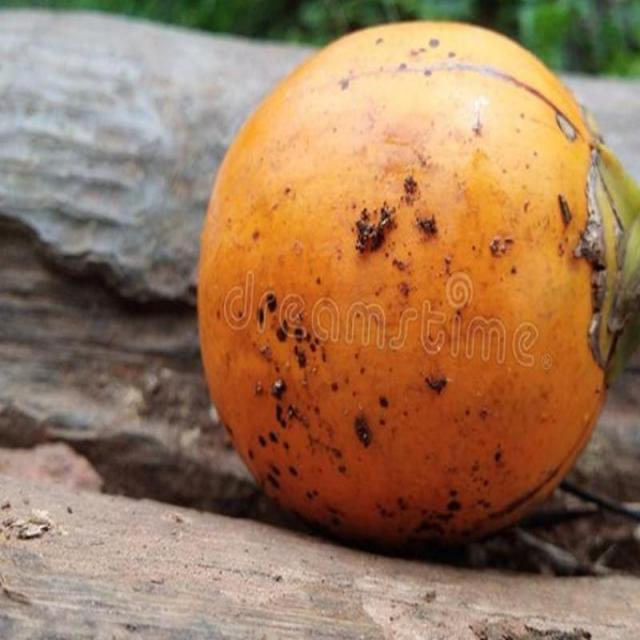good: (196, 21, 639, 559)
